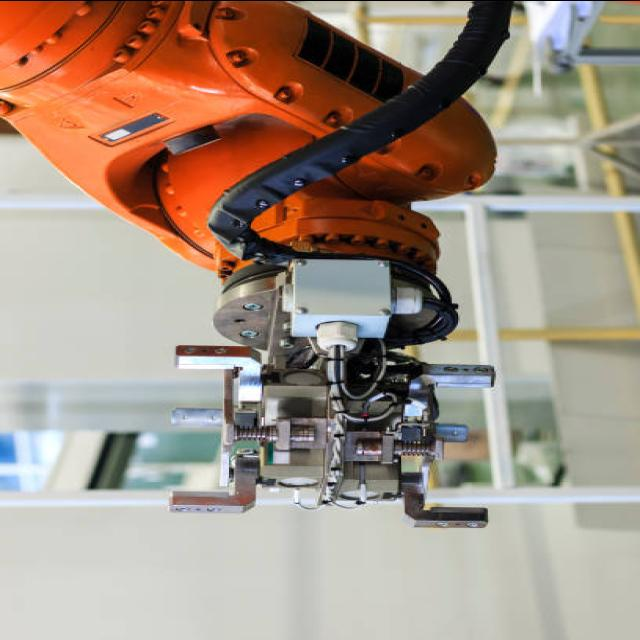Robotic-arm: (0, 0, 518, 342)
